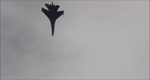maybay_muctieu: (41, 1, 62, 37)
